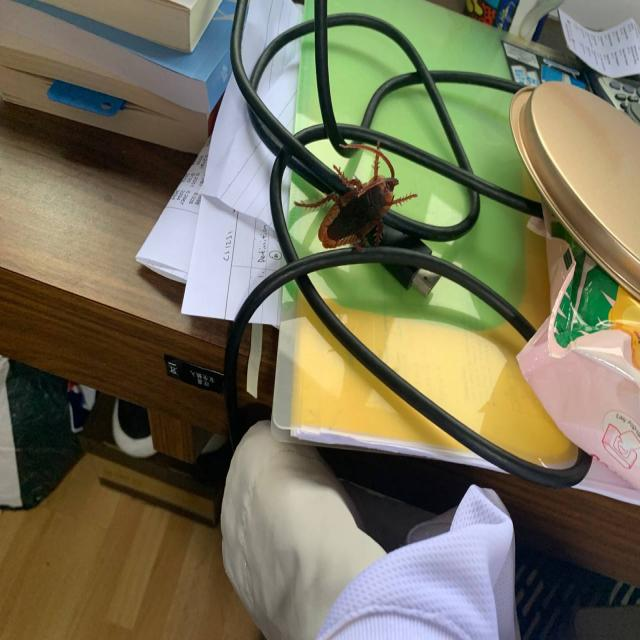Cockroach: (284, 117, 419, 266)
